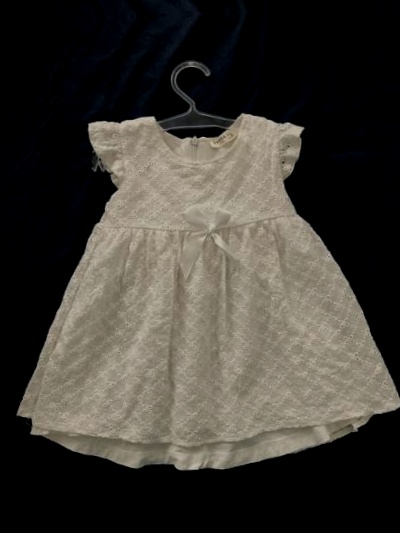Dress: (6, 79, 400, 486), (396, 63, 400, 470)
